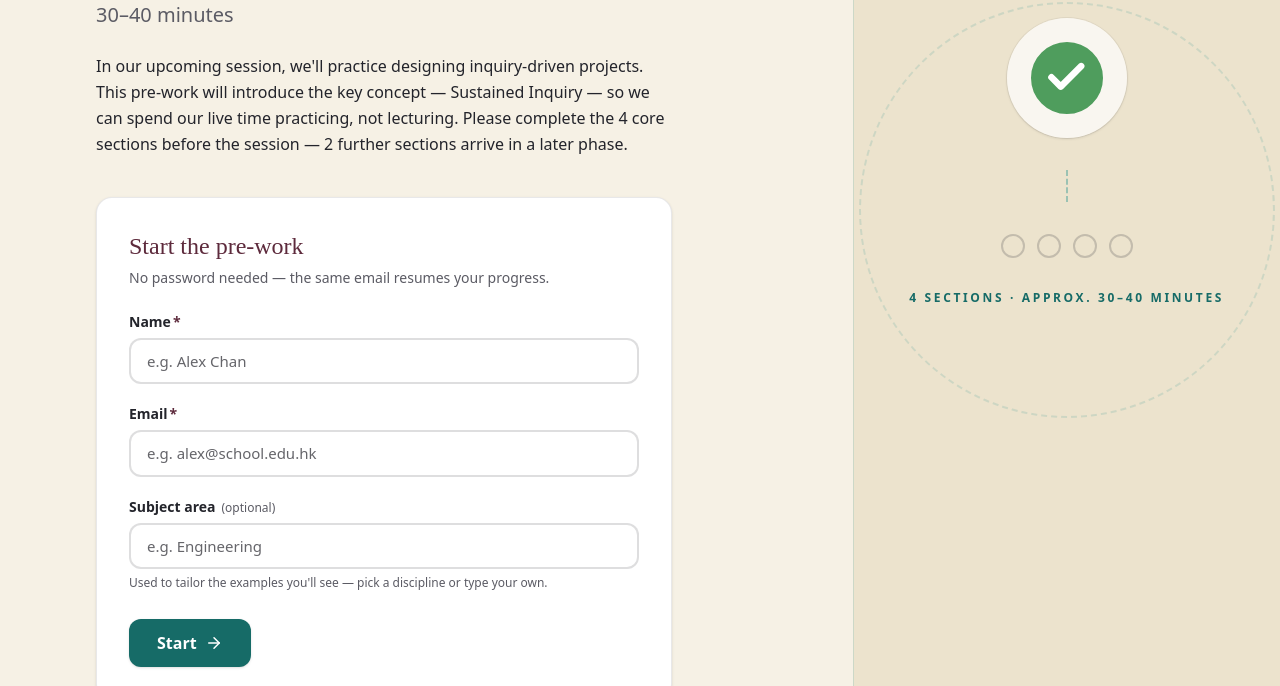
Test: Landing › shows an inline error and stays put when the entry API fails
(page scrolled)
Type "Ada Lovelace" into the field labelled "Name*" at (384, 361), box [129,338,639,384]
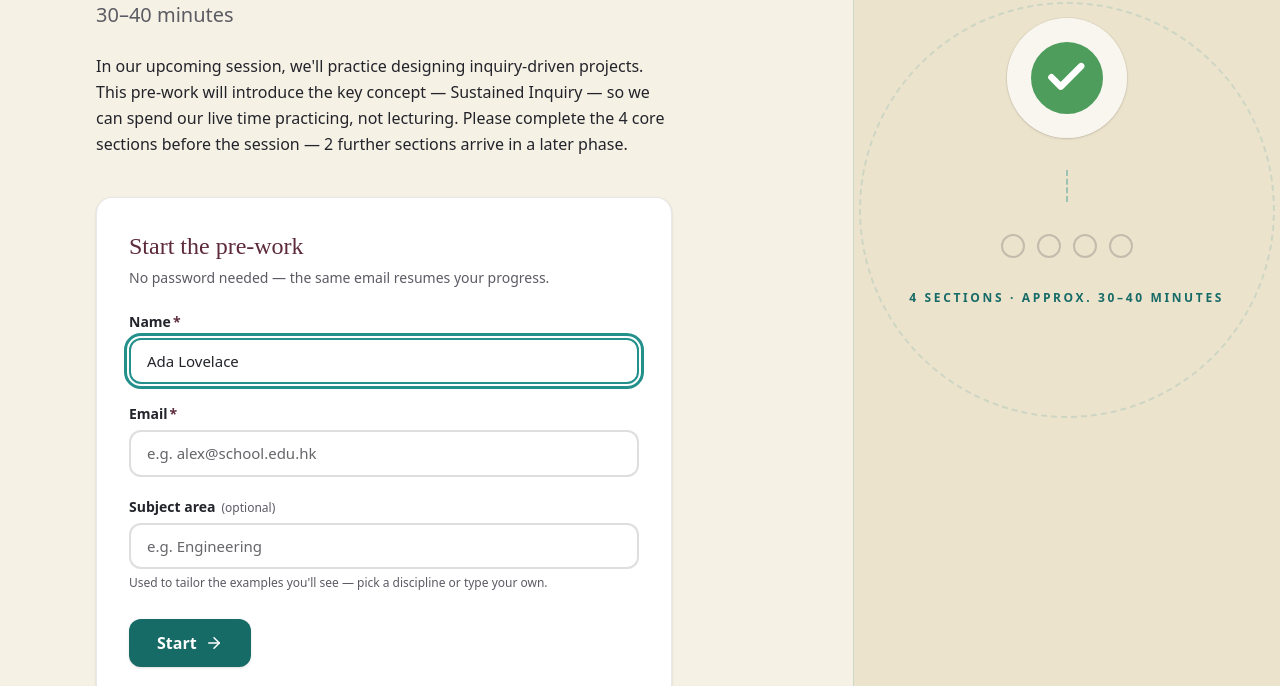
Type "ada@example.com" into the field labelled "Email*" at (384, 453), box [129,430,639,477]
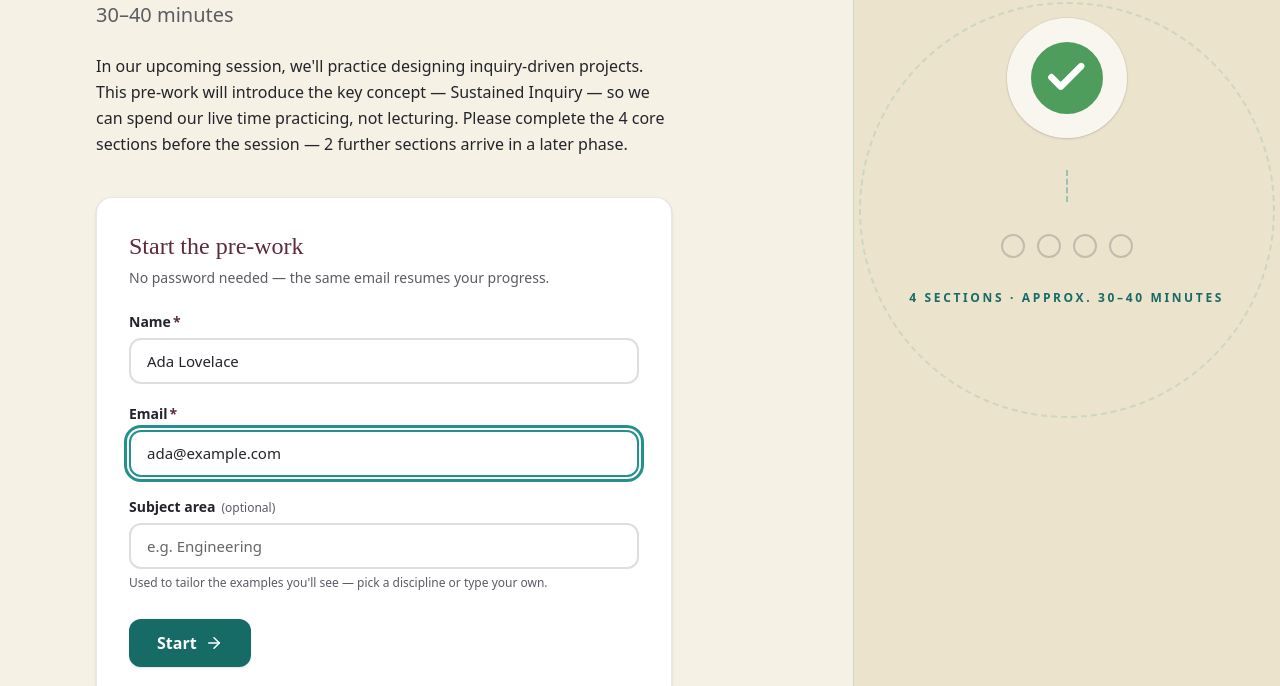
Click the button "Start" at (190, 643), box [129,619,251,667]
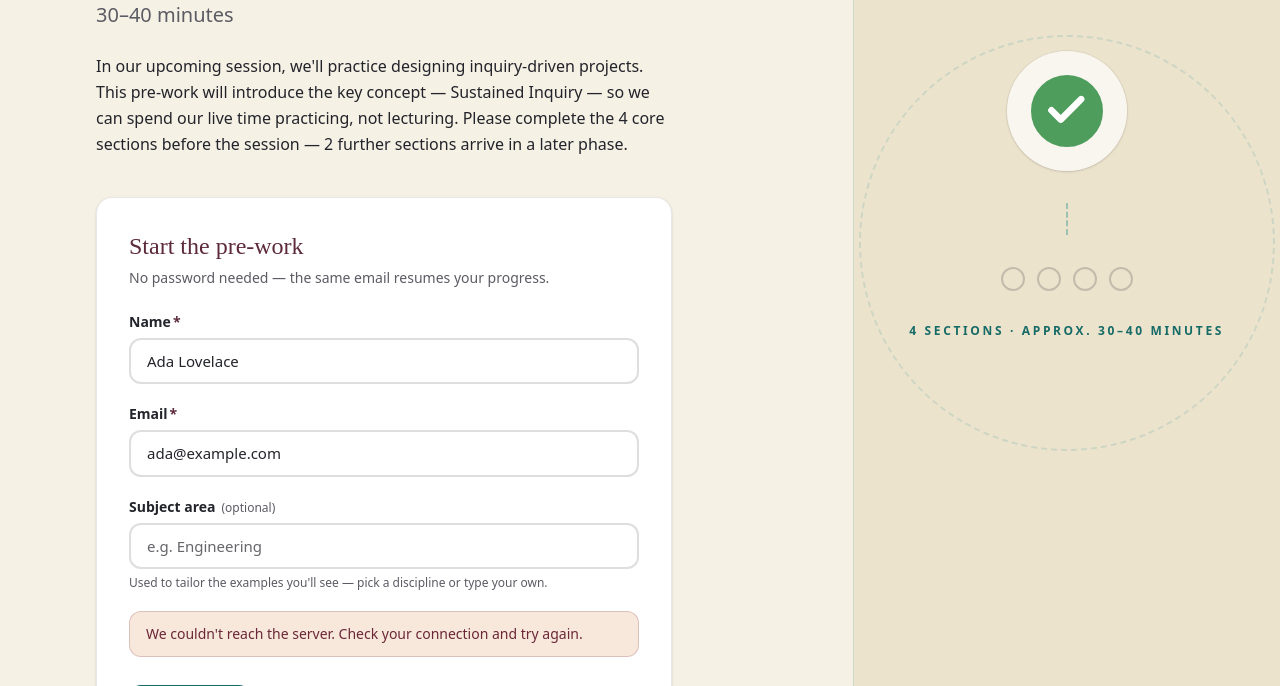
Now the message shows "couldn't reach the server", box [146,624,583,643]
